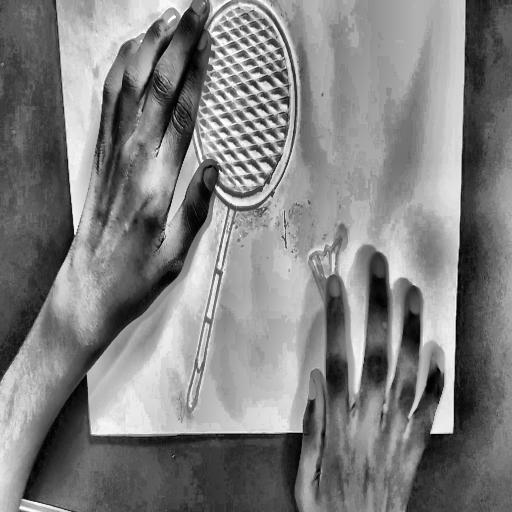badminton: (134, 1, 362, 418)
bottom_left: (87, 426, 96, 441)
bottom_right: (447, 423, 458, 439)
